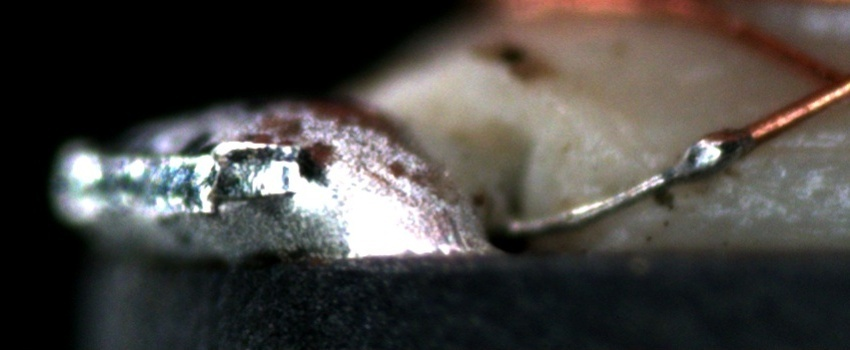CL: (798, 53, 848, 114)
DL: (771, 122, 849, 172)
TB: (669, 126, 756, 194)
TS: (497, 130, 755, 237)
TTCW: (505, 98, 814, 236)
